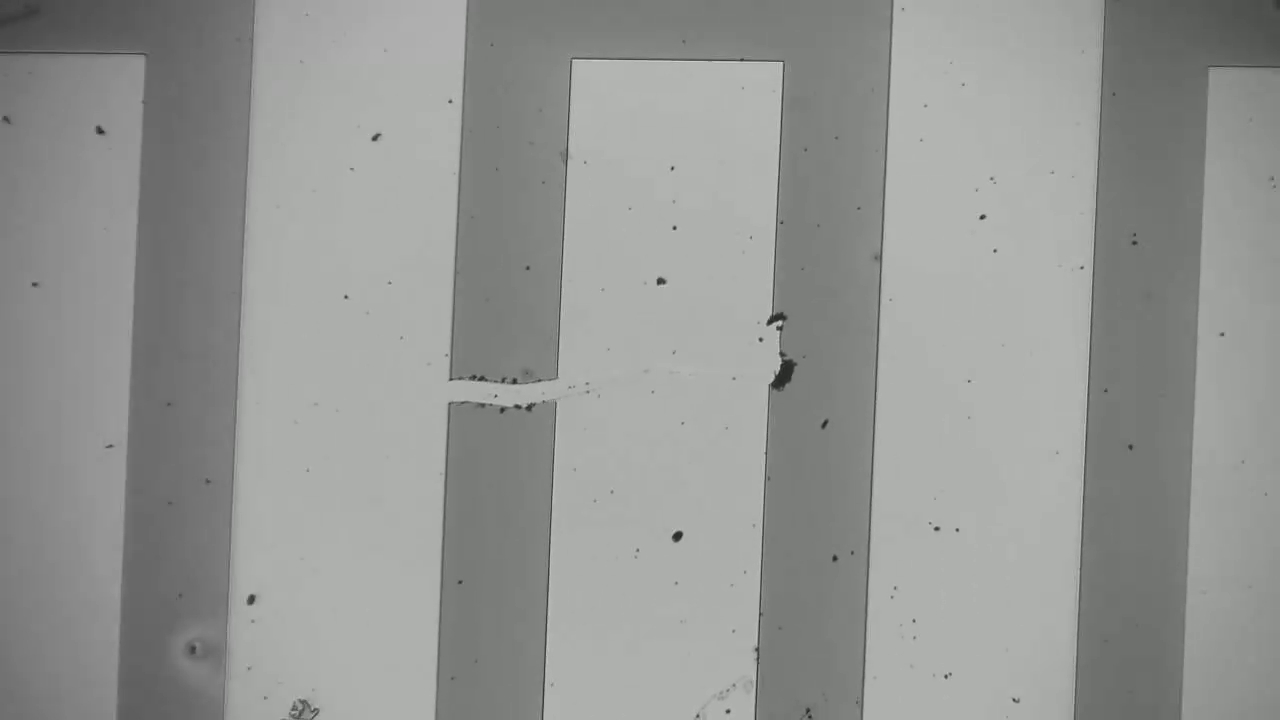Short_circuit: (425, 354, 599, 433)
